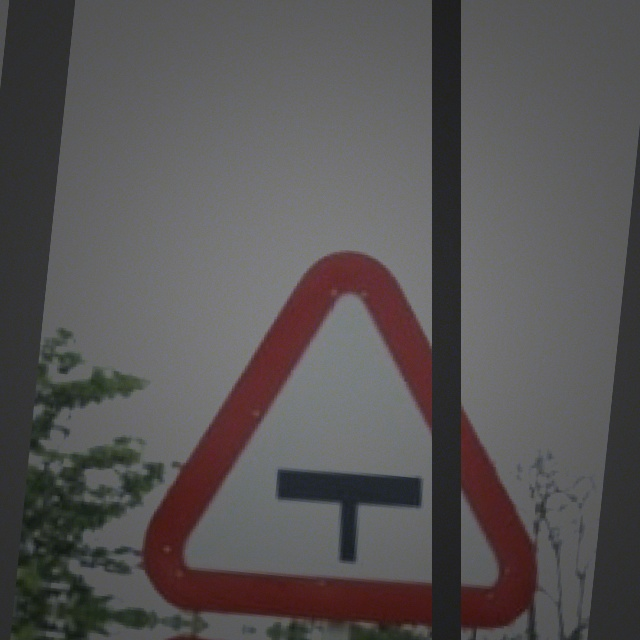T_Intersection: (146, 235, 567, 629)
